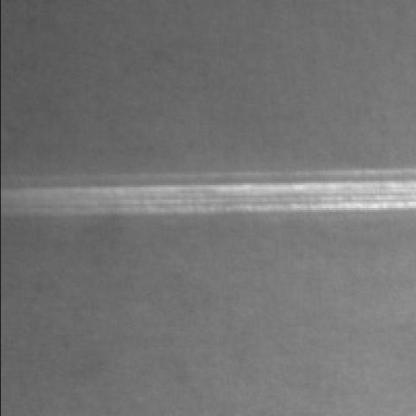scratches: (39, 164, 416, 224)
